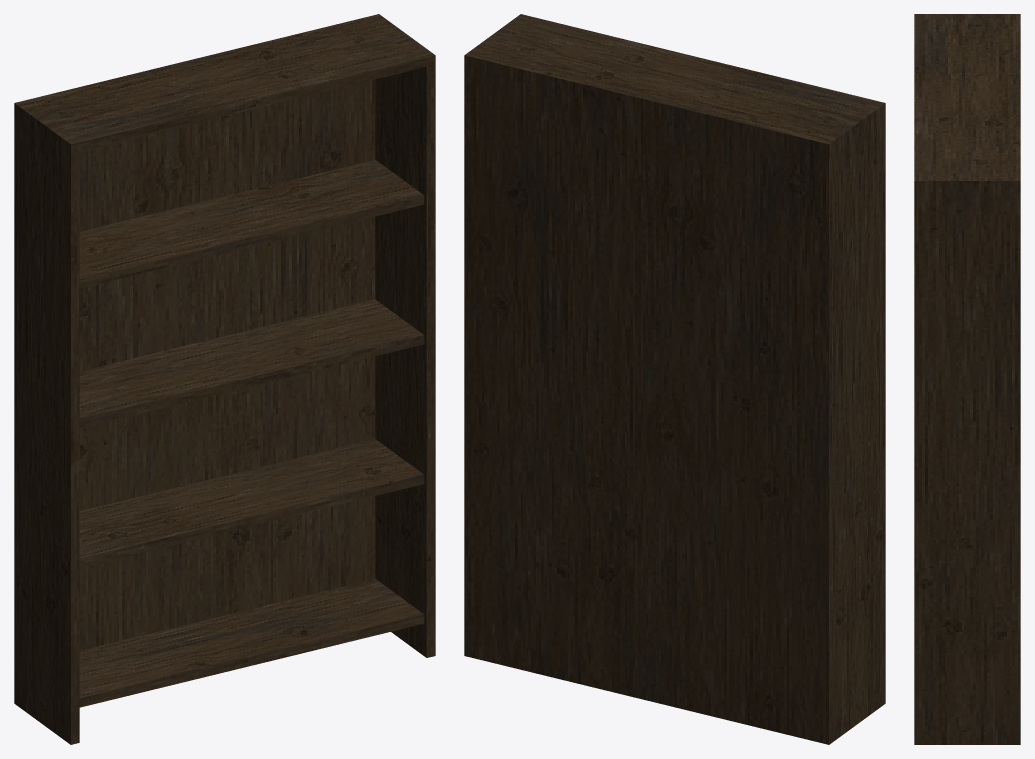
Rendered from shelf_mp_6_3.glb.
The picture shows the model from 3 angles, left to right: view 1: azimuth 30°, elevation 25°; view 2: azimuth 150°, elevation 25°; view 3: azimuth 270°, elevation 25°; orthographic projection. The views are drawn at different scales.
Parts seen in each view (by area): view 1: shelf_mp_6_3; view 2: shelf_mp_6_3; view 3: shelf_mp_6_3.
Part boxes in pixels (<box>): shelf_mp_6_3: <box>14,14,435,744</box>; shelf_mp_6_3: <box>464,14,885,744</box>; shelf_mp_6_3: <box>914,14,1020,744</box>.
Size of the model in its own units: 0.82 by 1.29 by 0.22.
Materials: 1 (1 with a texture image).
